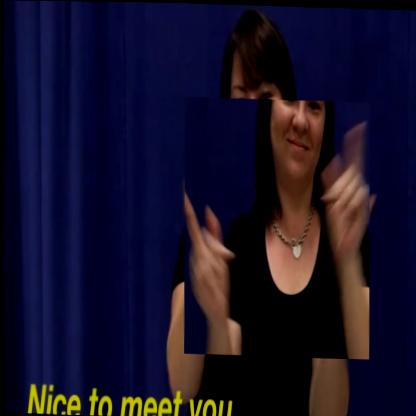NiceToMeetYou: (180, 96, 372, 358)
